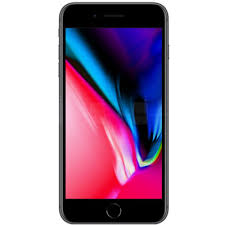iphone: (54, 1, 169, 225)
iphone8: (53, 1, 168, 225)
